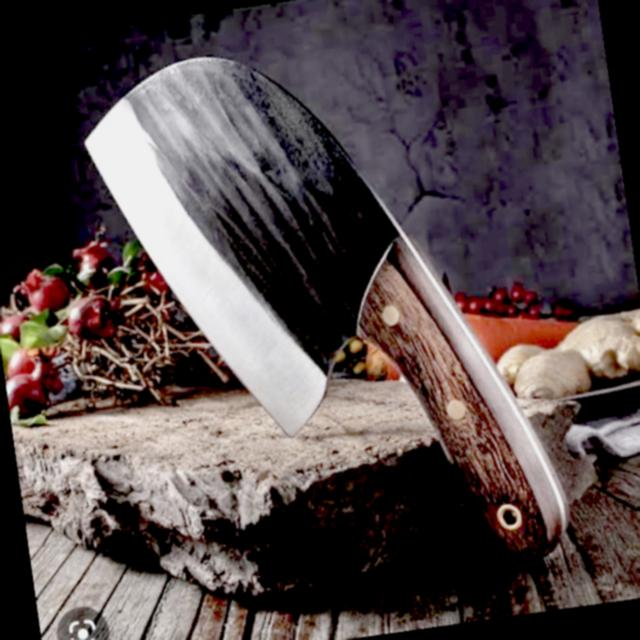knife: (63, 0, 591, 634)
